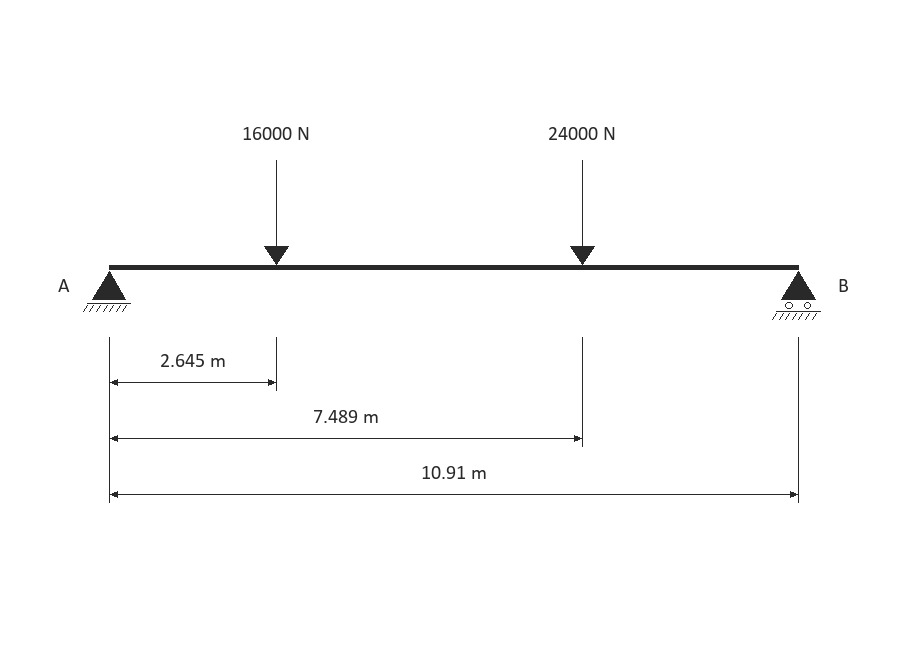pin_support: (83, 271, 131, 312)
point_load: (264, 160, 289, 265), (570, 160, 595, 265)
roller_support: (772, 271, 821, 320)
